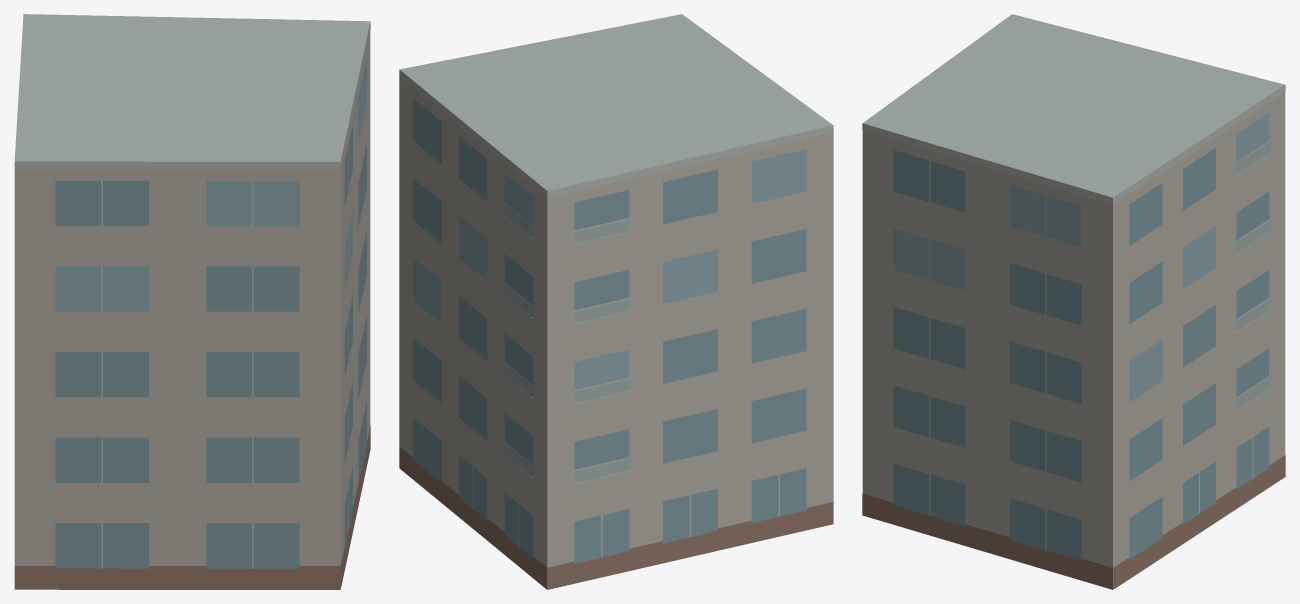
Rendered from survey-upis-32749237.glb.
3 renders of one model, left to right at view 1: azimuth 30°, elevation 25°; view 2: azimuth 150°, elevation 25°; view 3: azimuth 270°, elevation 25°, orthographic. The views are drawn at different scales.
Visible parts, largest first — view 1: survey-upis-32749237.tmp; view 2: survey-upis-32749237.tmp; view 3: survey-upis-32749237.tmp.
Boxes of the visible parts, bbox=[...] form: survey-upis-32749237.tmp: bbox=[14, 14, 370, 589]; survey-upis-32749237.tmp: bbox=[399, 14, 833, 589]; survey-upis-32749237.tmp: bbox=[862, 14, 1285, 589].
Size of the model in its own units: 13.57 by 13.5 by 13.2.
